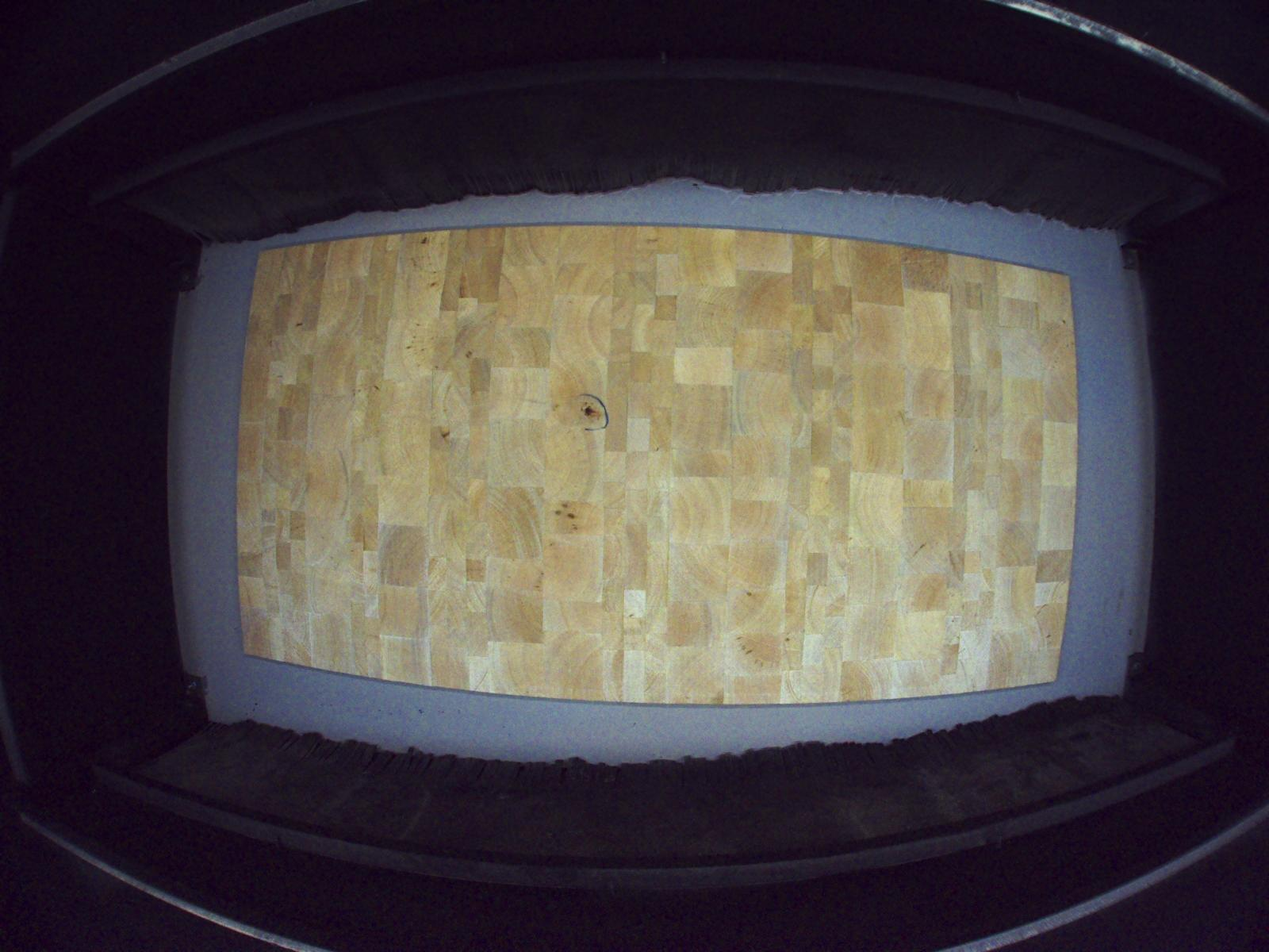nudillo: (579, 400, 602, 422)
